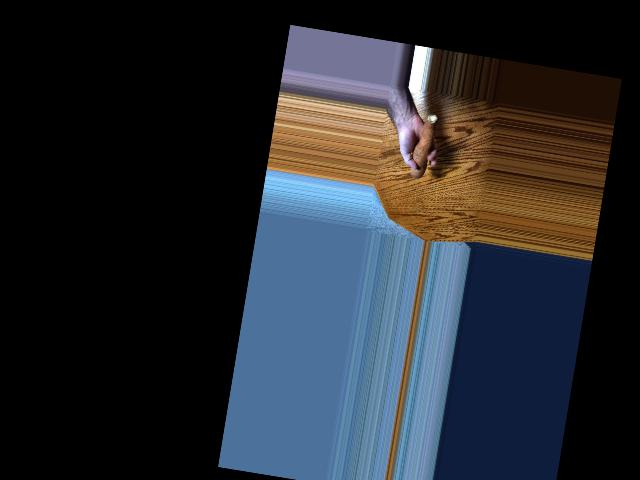sweet_potato: (408, 117, 438, 176)
